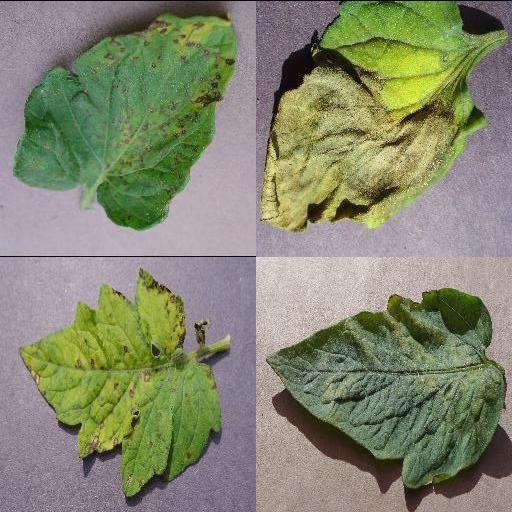Late Blight: (256, 0, 485, 232)
Septoria: (14, 13, 240, 231), (20, 268, 220, 497)
Spider Mites: (266, 286, 506, 486)
